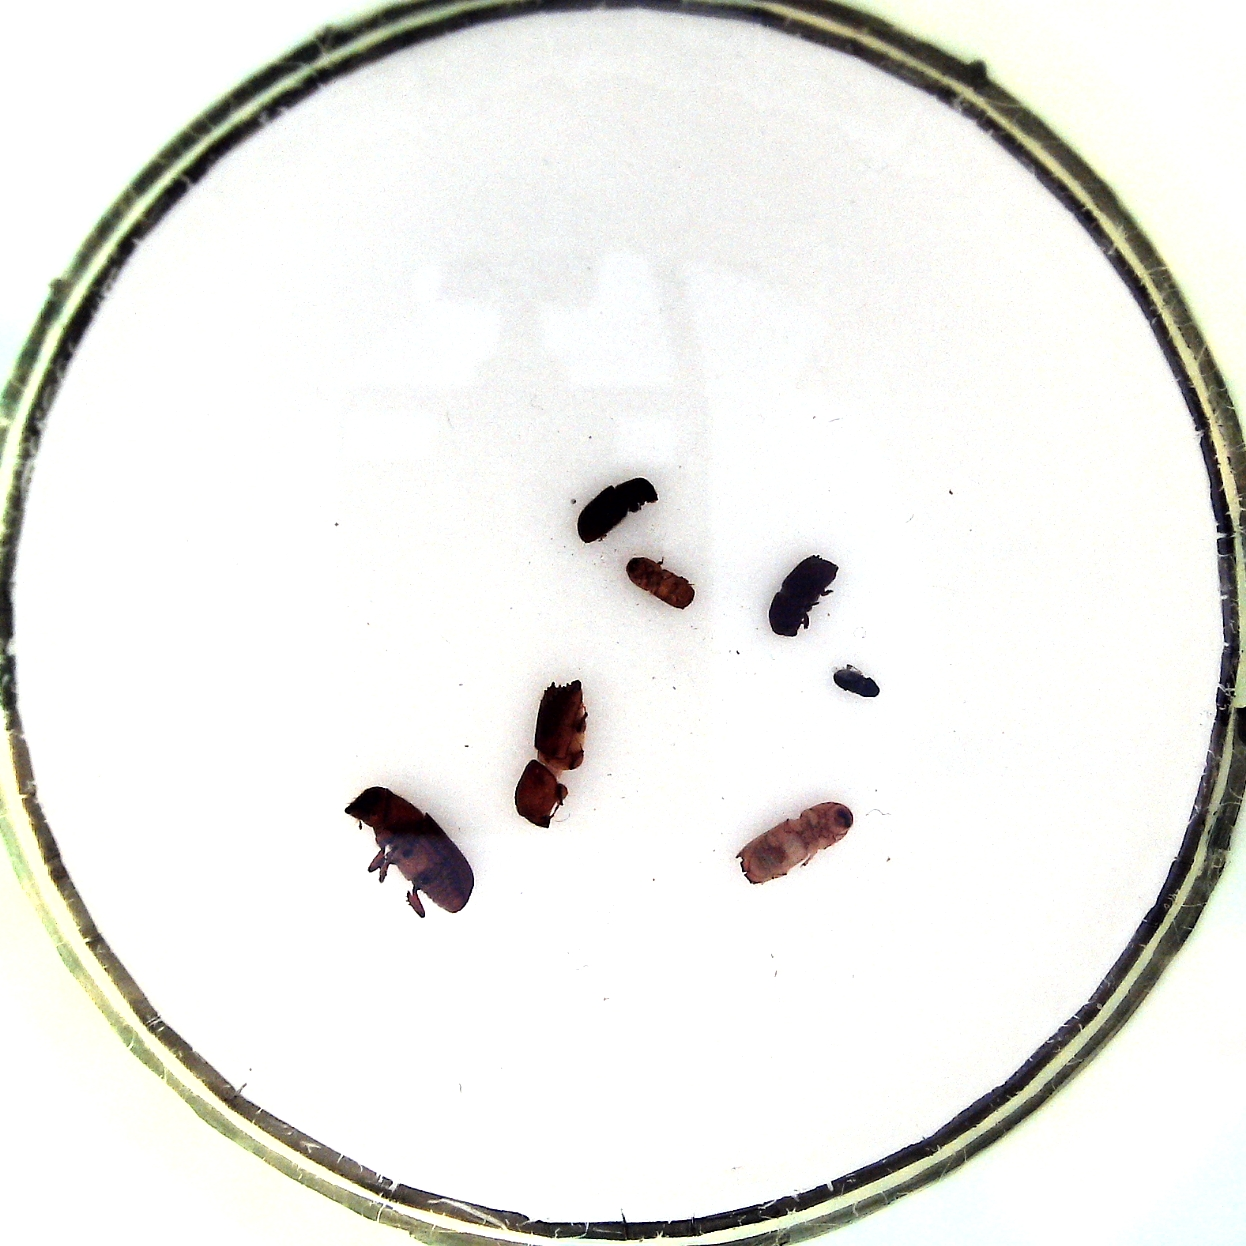Boerner: (509, 679, 594, 830), (733, 800, 857, 887)
Leconte: (341, 780, 474, 919)
Linnaeus: (764, 551, 841, 640)
acuminatus: (621, 548, 698, 612)
armandi: (573, 471, 660, 543)
coleoptera: (827, 658, 888, 699)
